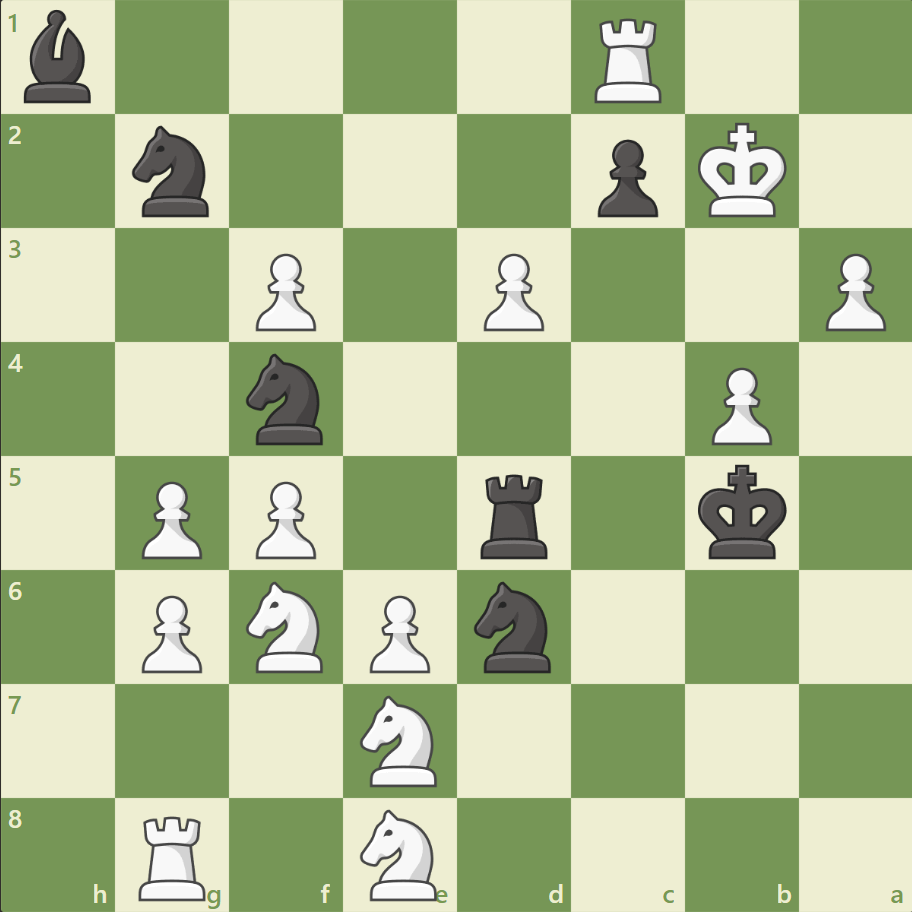K: (692, 117, 792, 225)
N: (351, 688, 449, 791), (351, 802, 449, 904), (238, 575, 335, 677)
P: (133, 586, 208, 677), (247, 473, 322, 564), (133, 473, 208, 564), (701, 359, 776, 450), (474, 246, 549, 337), (247, 246, 322, 337), (361, 586, 435, 677), (815, 246, 889, 337)
R: (587, 12, 670, 109), (133, 806, 215, 904)
b: (17, 6, 101, 109)
k: (692, 458, 792, 566)
n: (124, 121, 222, 223), (465, 575, 562, 677), (238, 348, 335, 450)
p: (588, 132, 662, 223)
r: (473, 466, 556, 563)
